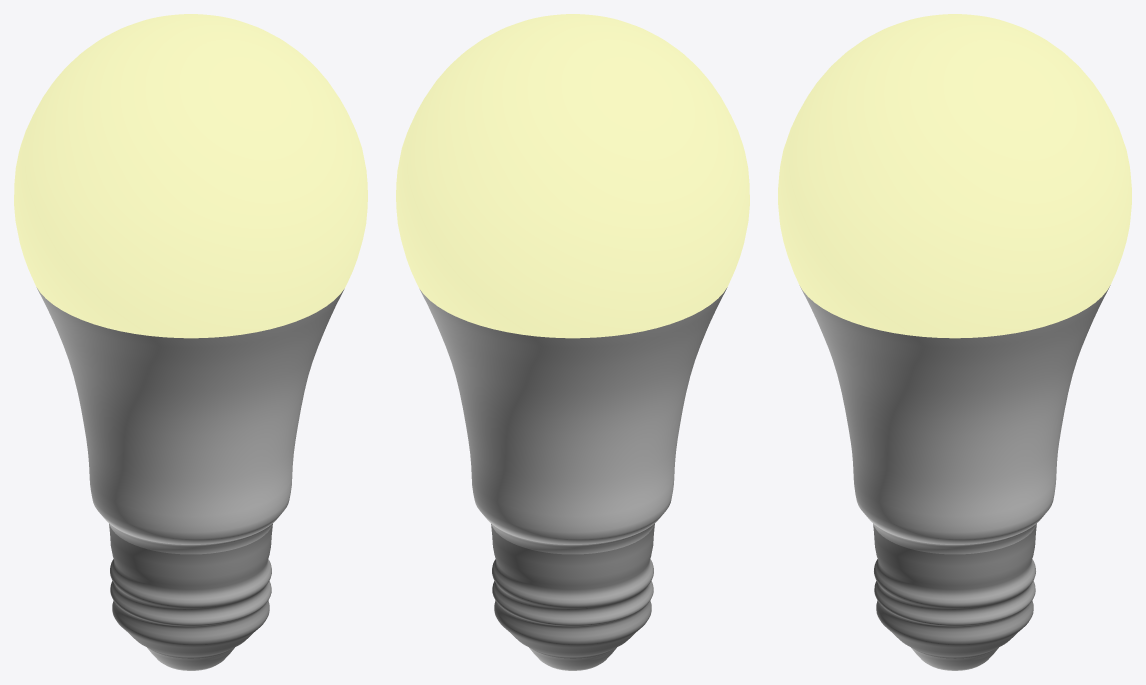
The model's file is plant.glb.
The picture shows the model from 3 angles, left to right: view 1: azimuth 30°, elevation 25°; view 2: azimuth 150°, elevation 25°; view 3: azimuth 270°, elevation 25°; orthographic projection.
Visible parts, largest first — view 1: Sphere_0; view 2: Sphere_0; view 3: Sphere_0.
Part boxes in pixels (x1,y1,x2,y2): Sphere_0: (14,14,367,670); Sphere_0: (396,14,749,670); Sphere_0: (778,14,1131,670).
Size of the model in its own units: 0.4255 by 0.8364 by 0.4255.
